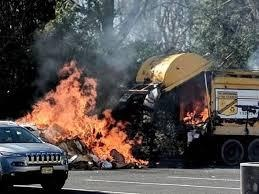fire: (16, 55, 148, 172), (182, 97, 212, 125)
